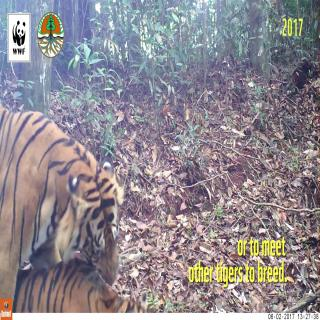Tiger: (0, 91, 123, 302)
